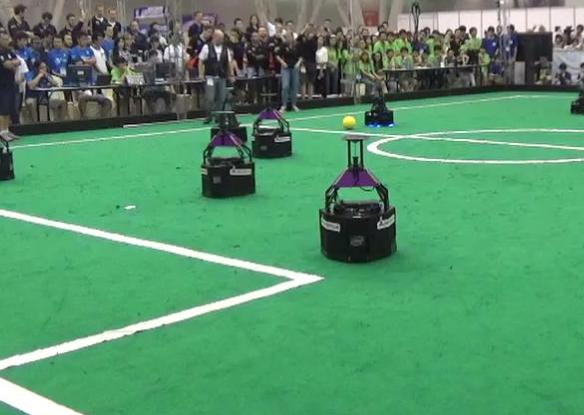robot: (316, 129, 403, 263), (197, 107, 258, 201), (245, 90, 299, 161)
